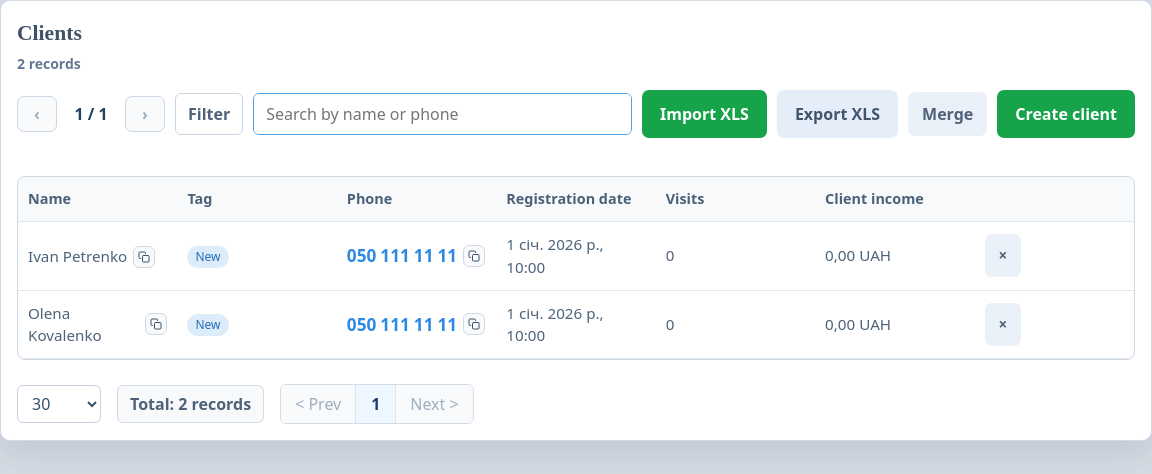
Test: ClientsWorkspace › search clear resets the applied query
The image size is (1152, 474).
Type "Ivan" into the field named "Search client" at (443, 114), box [254,94,631,134]
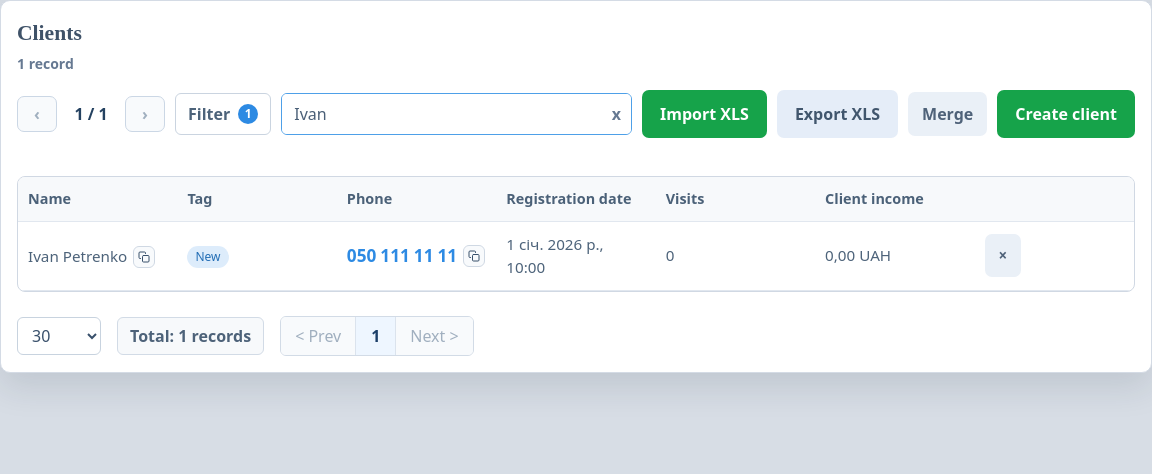
Expected: the text "Ivan Petrenko" is shown, [28,245,127,268]
Expected: the text "Olena Kovalenko" is gone
Click the button named "Clear search text" at (616, 114), box [612,106,621,122]
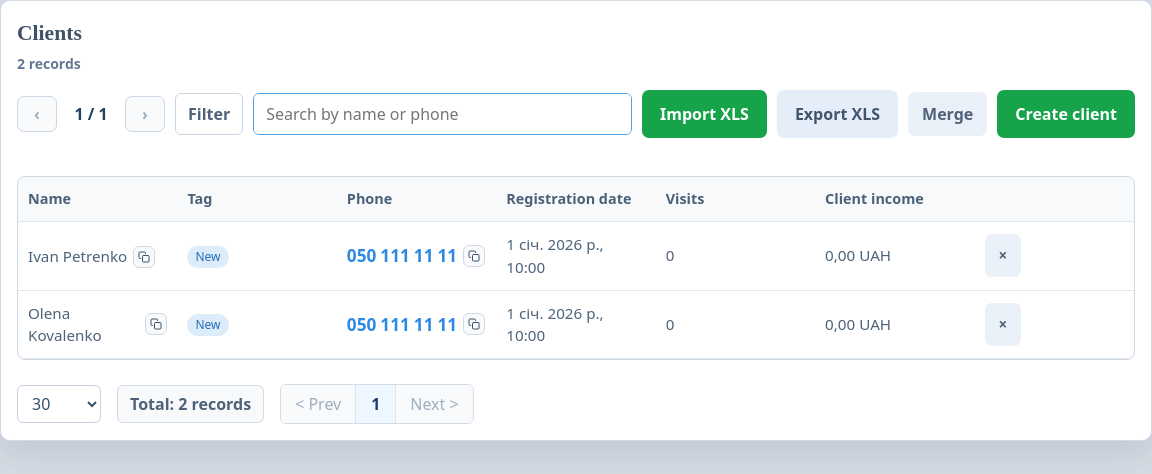
Expected: the text "Ivan Petrenko" is shown, [28,245,127,268]
Expected: the text "Olena Kovalenko" is shown, [28,303,102,345]
